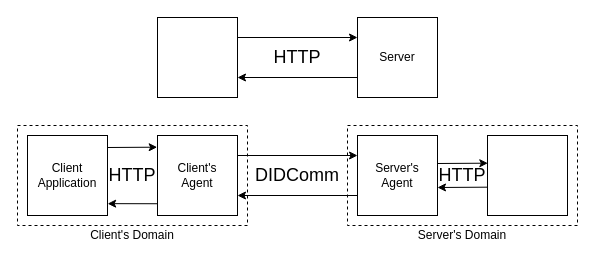
Some shapes in this 595 by 263 pixel diagram are drawn without their labels. The box of each missing label's shape, as (x1, y1, x2, y2) in pixels:
Client: (156, 16, 238, 98)
Server Application: (486, 134, 568, 216)
